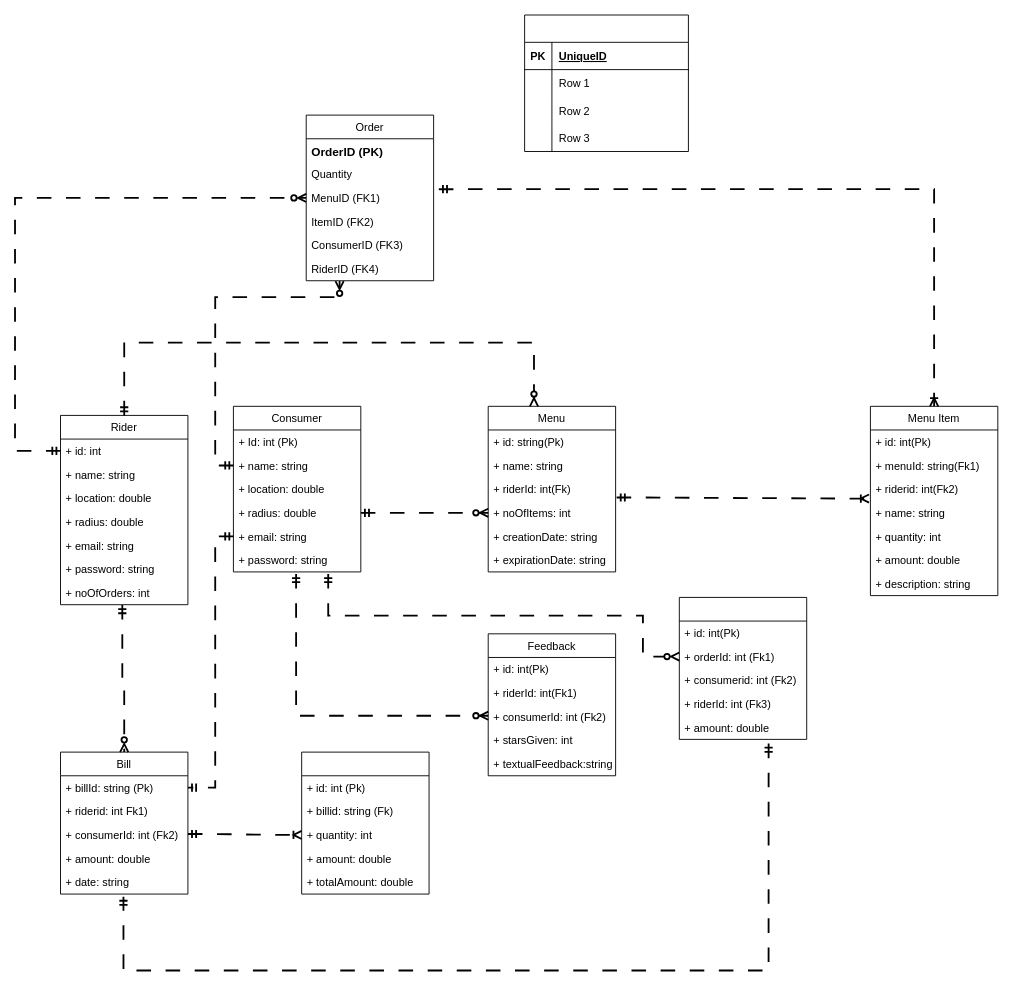
This 1013x986 diagram has some shape labels left out. Each missing label, with the box of its shape:
Bill Items: (301, 751, 429, 894)
Payment: (678, 597, 807, 739)
Table: (524, 14, 688, 152)
